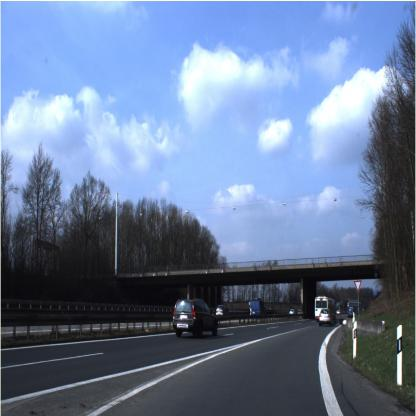Cedeaza Trecerea: (353, 280, 363, 293)
